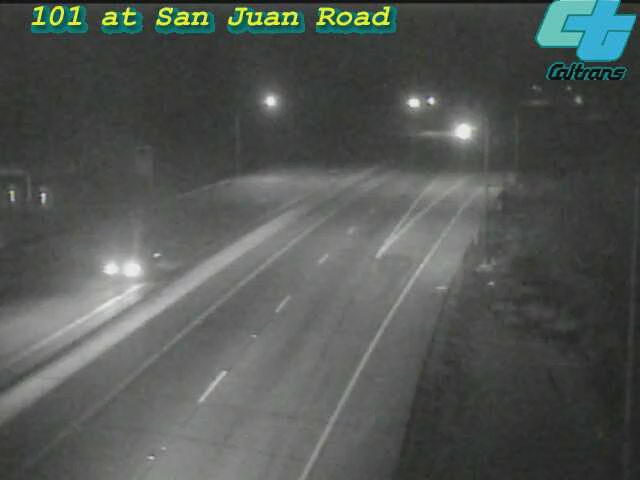vehicle: (81, 228, 161, 308), (440, 105, 490, 155)
